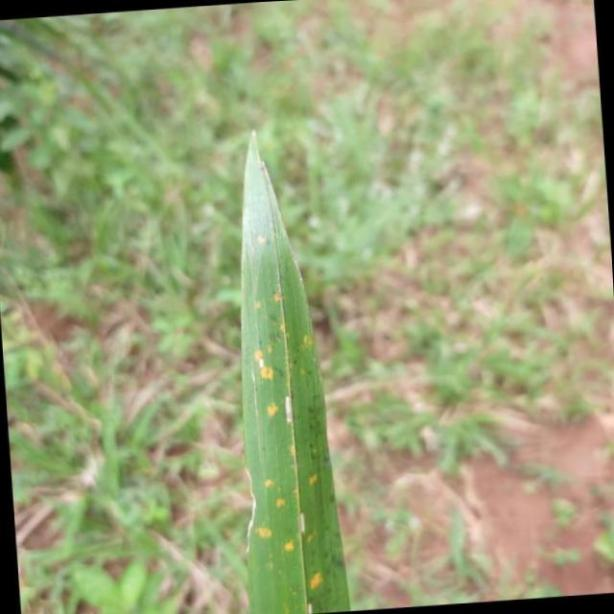Kalium: (235, 113, 355, 614)
